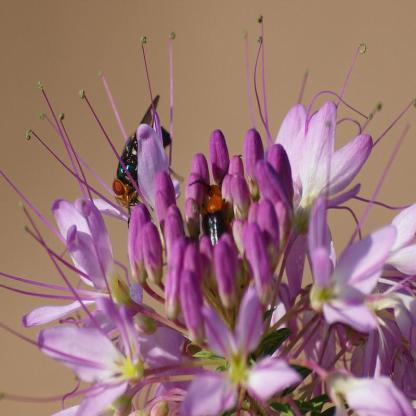beetle: (112, 79, 178, 210), (192, 165, 236, 252)
